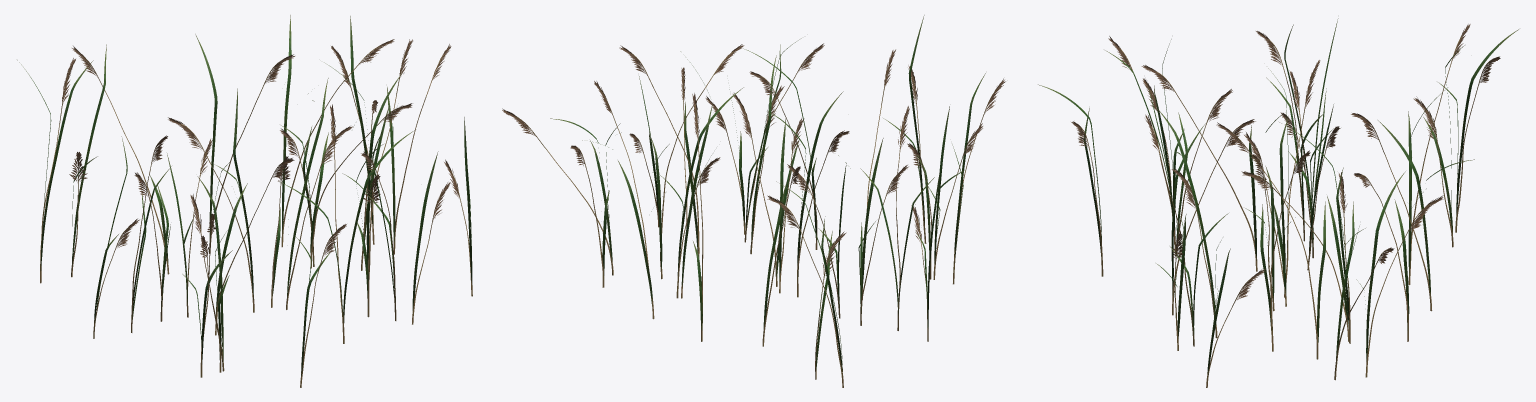
File: grass-more.glb
3 renders of one model, left to right at view 1: azimuth 30°, elevation 25°; view 2: azimuth 150°, elevation 25°; view 3: azimuth 270°, elevation 25°, orthographic. The views are drawn at different scales.
Visible parts, largest first — view 1: ALL-A.1; view 2: ALL-A.1; view 3: ALL-A.1.
Part boxes in pixels (x1,y1,x2,y2): ALL-A.1: (17, 15, 472, 387); ALL-A.1: (502, 15, 1005, 387); ALL-A.1: (1038, 18, 1518, 387).
Bounding box in the file's own units: 123 × 62.59 × 119.
Materials: 1 (1 with a texture image).
